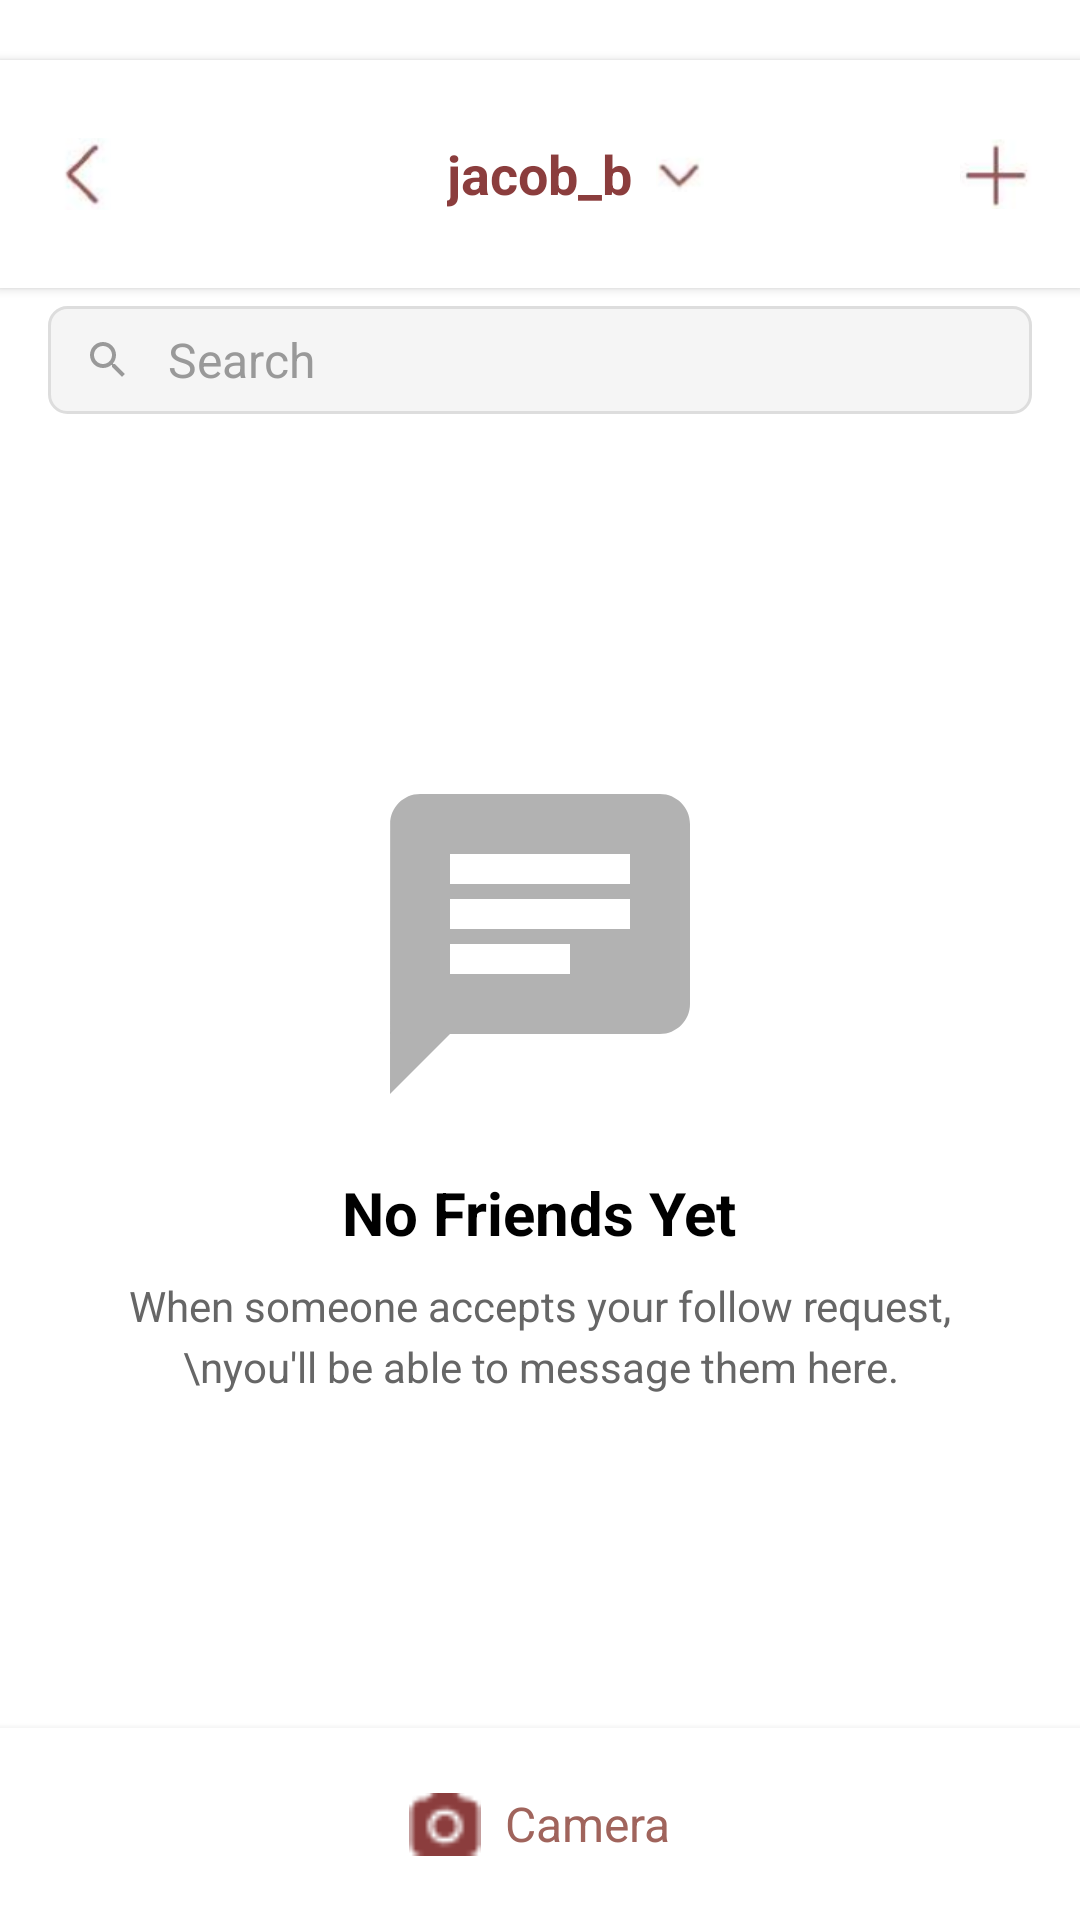

Named icons in this screenshot (1080px x 1920px) and their bounding boxes, (x1, y1, x2, y2):
add: (966, 145, 1026, 206)
arrow back: (66, 144, 99, 205)
arrow drop down: (659, 164, 699, 188)
chat: (390, 794, 690, 1094)
